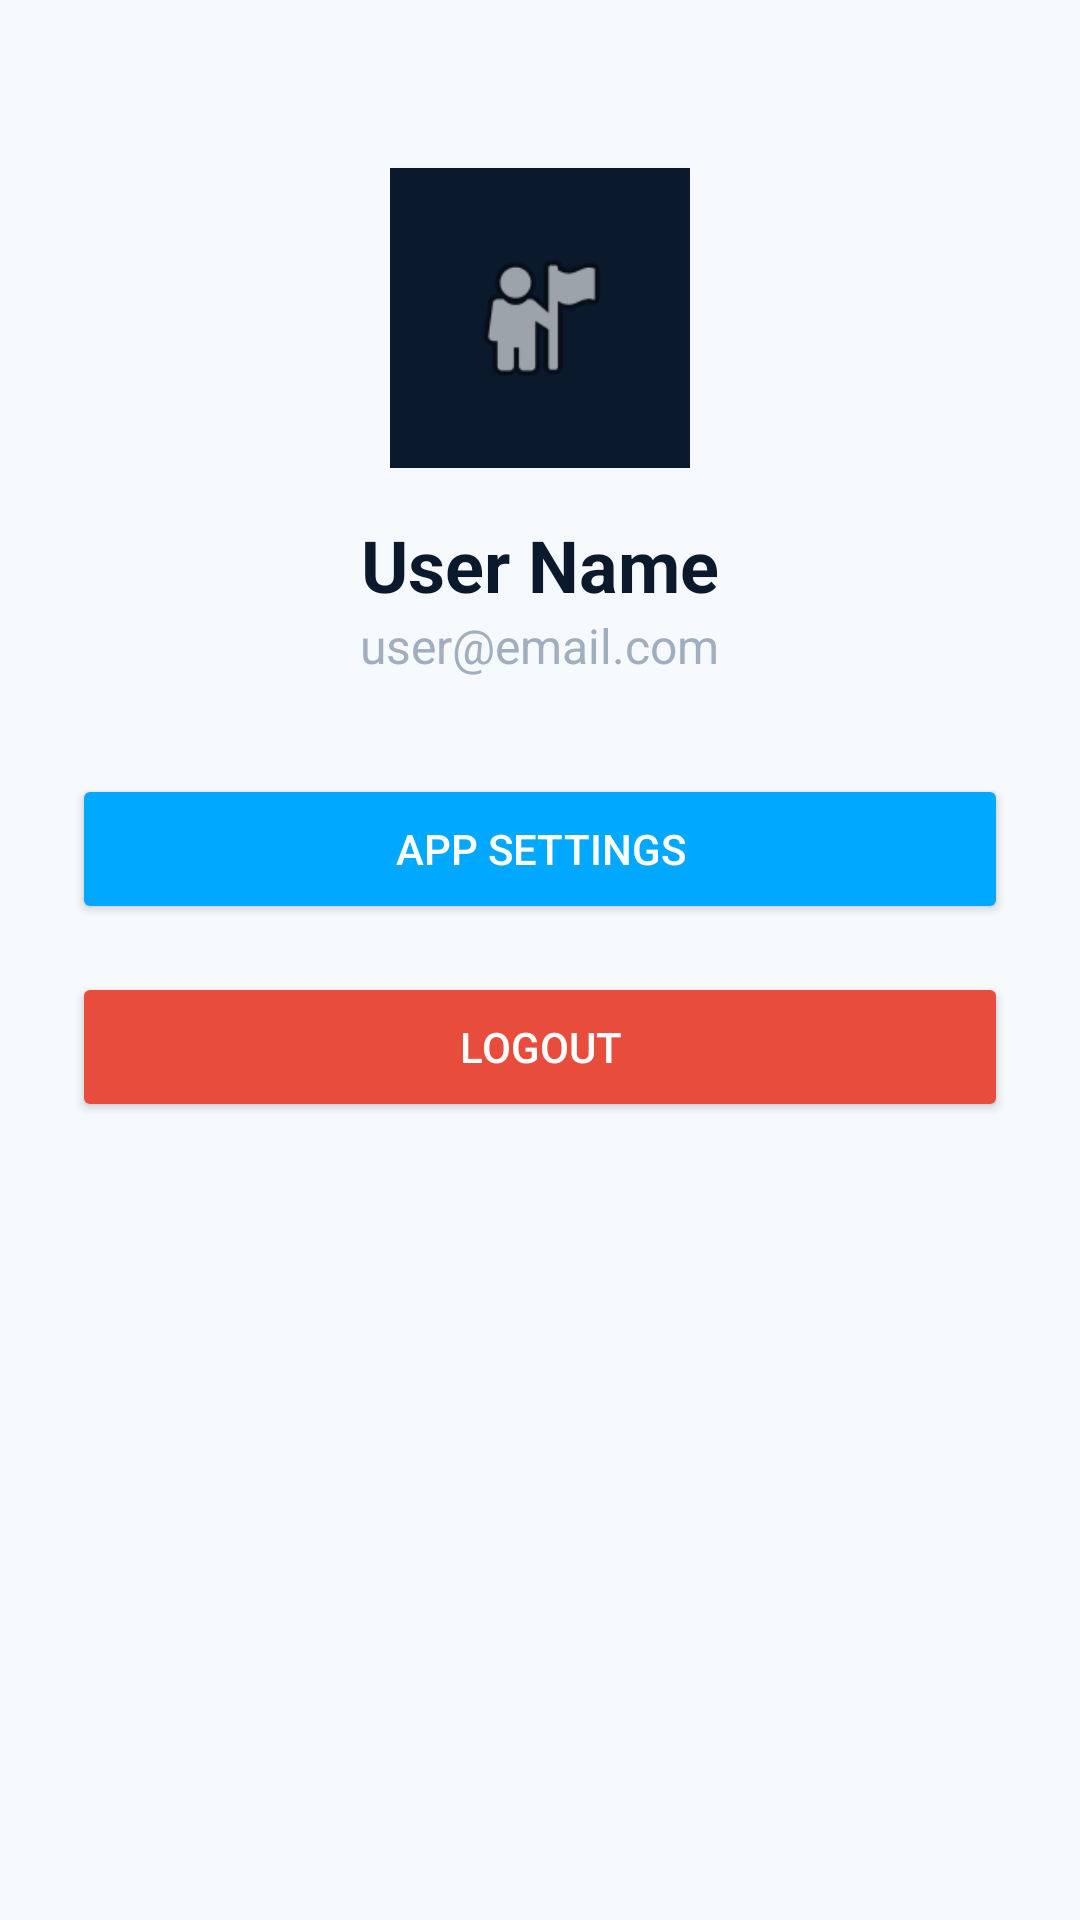

Icons on this 1080x1920 Android screen, each with its box as (x1, y1, x2, y2):
myplaces: (390, 168, 690, 468)
